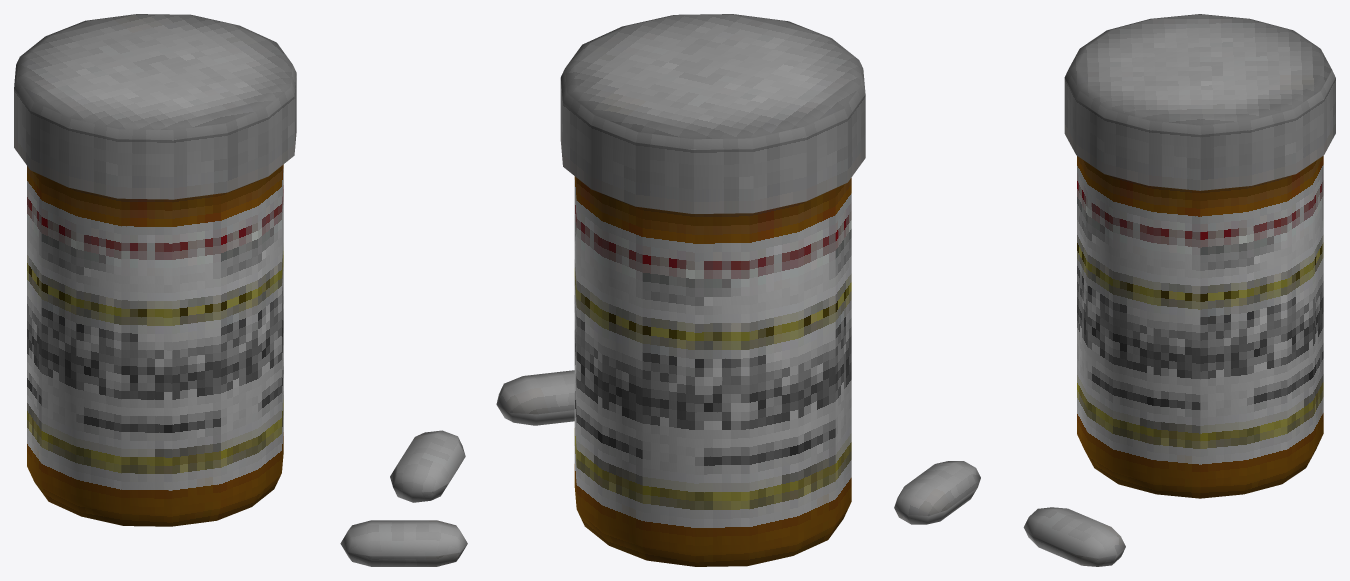
Rendered from pills_bottle_1_1.glb.
3 views of the same model, side by side, from view 1: azimuth 30°, elevation 25°; view 2: azimuth 150°, elevation 25°; view 3: azimuth 270°, elevation 25° (orthographic). The views are drawn at different scales.
Visible parts, largest first — view 1: pills_bottle_1_1; view 2: pills_bottle_1_1; view 3: pills_bottle_1_1.
Boxes of the visible parts, box(x1,y1,x2,y2) form: pills_bottle_1_1: box(14, 14, 467, 566); pills_bottle_1_1: box(496, 14, 865, 566); pills_bottle_1_1: box(894, 14, 1335, 566).
Bounding box in the file's own units: 0.1259 × 0.1333 × 0.1354.
Materials: 1 (1 with a texture image).
